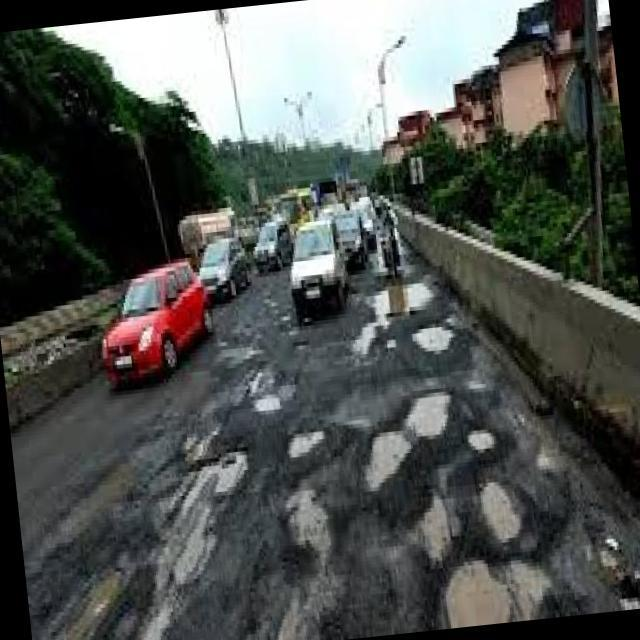Pothole: (443, 433, 593, 628), (138, 433, 248, 640), (29, 539, 133, 640), (274, 493, 330, 640), (368, 395, 449, 487), (350, 273, 433, 358), (378, 499, 451, 562), (245, 363, 297, 415), (480, 482, 521, 542), (409, 314, 456, 355), (289, 431, 324, 460), (468, 429, 498, 453)
